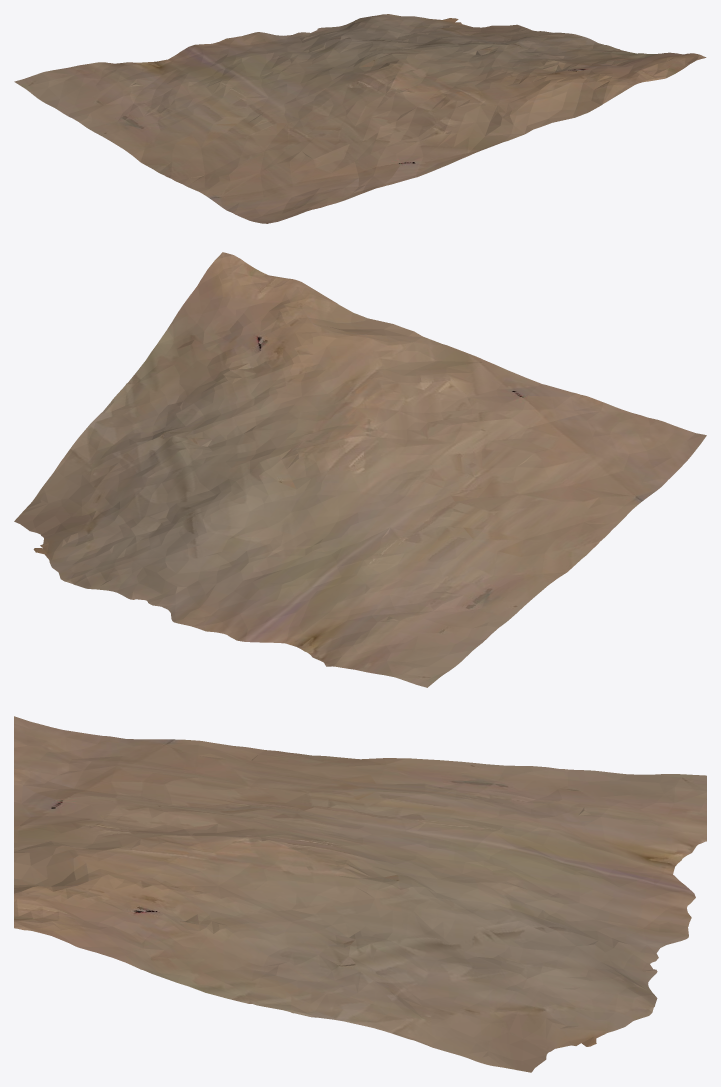
3 renders of one model, top to bottom at view 1: azimuth 30°, elevation 25°; view 2: azimuth 150°, elevation 25°; view 3: azimuth 270°, elevation 25°, orthographic. The views are drawn at different scales.
Size of the model in its own units: 1.04 by 0.2403 by 1.04.
Materials: 2 (2 with a texture image).
